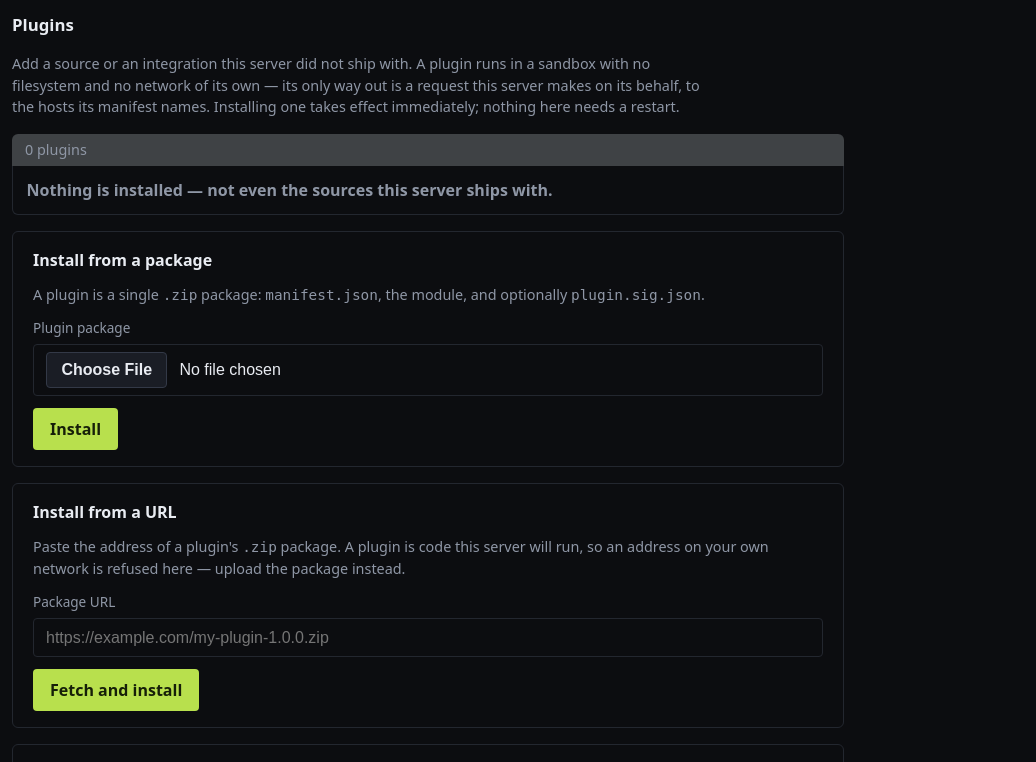
Test: the Plugins screen — review fixes › clears the pasted URL once the install succeeds (R02-03)
The width and height of the screenshot is (1036, 762).
Type "https://example.com/p.zip" into the field with test id "plugin-url".
click(428, 638); type("https://example.com/p.zip")  # box [33,618,823,657]
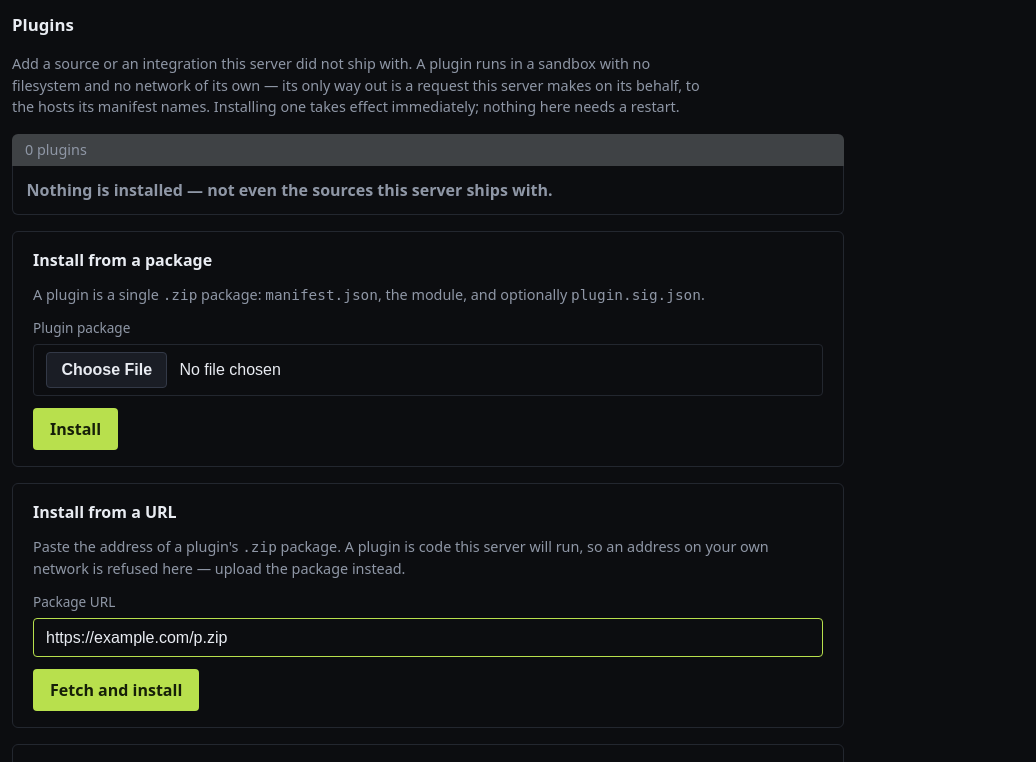
Click the button with test id "plugin-install-from-url".
click(116, 690)  # box [33,669,199,710]
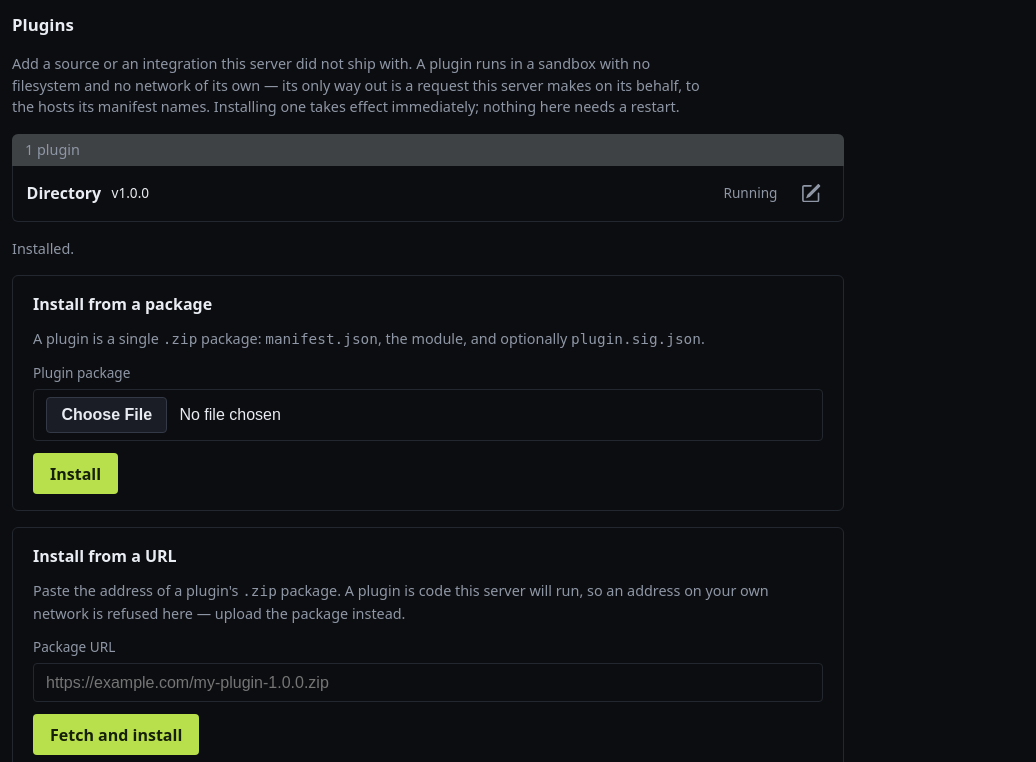
expect the list item with test id "plugin-directory" is shown: met, box [13,166,843,221]
expect the field with test id "plugin-url" is empty: met, box [33,663,823,702]
